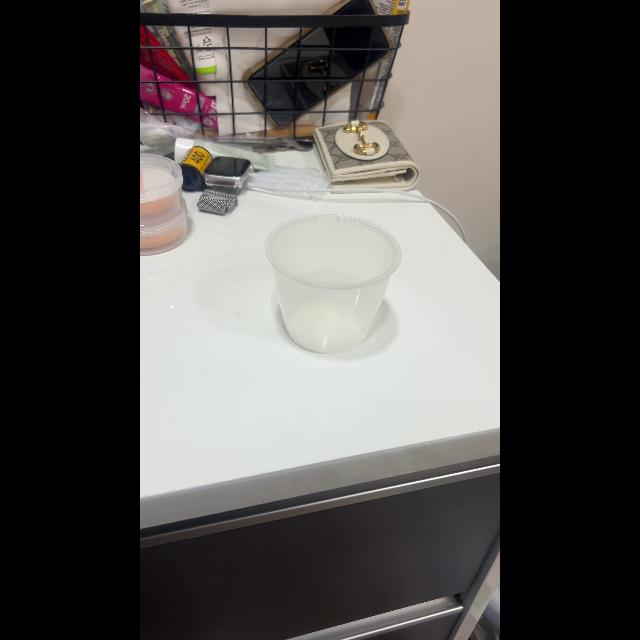clean: (264, 212, 398, 358)
